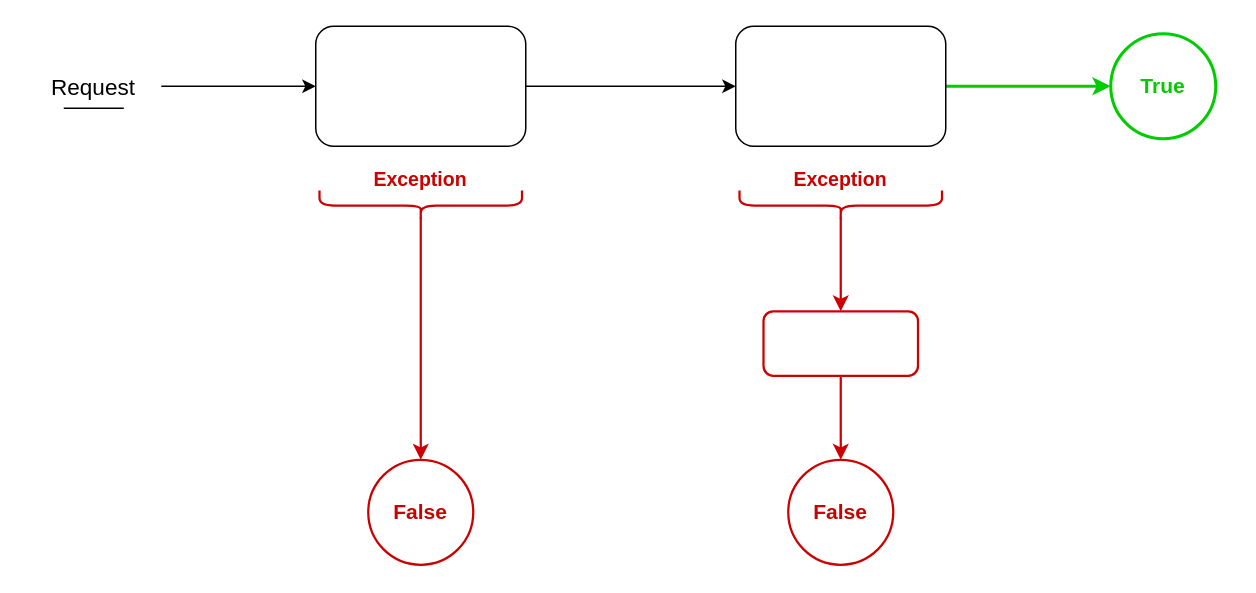
Some shapes in this 1256 by 593 pixel diagram are drawn without their labels. Here are the shapes that lost their labels. From the top down, the centre of each, then its label:
pixel 420 85: Operation on MongoDB
pixel 840 85: Operation on Neo4j
pixel 840 342: Rollback
